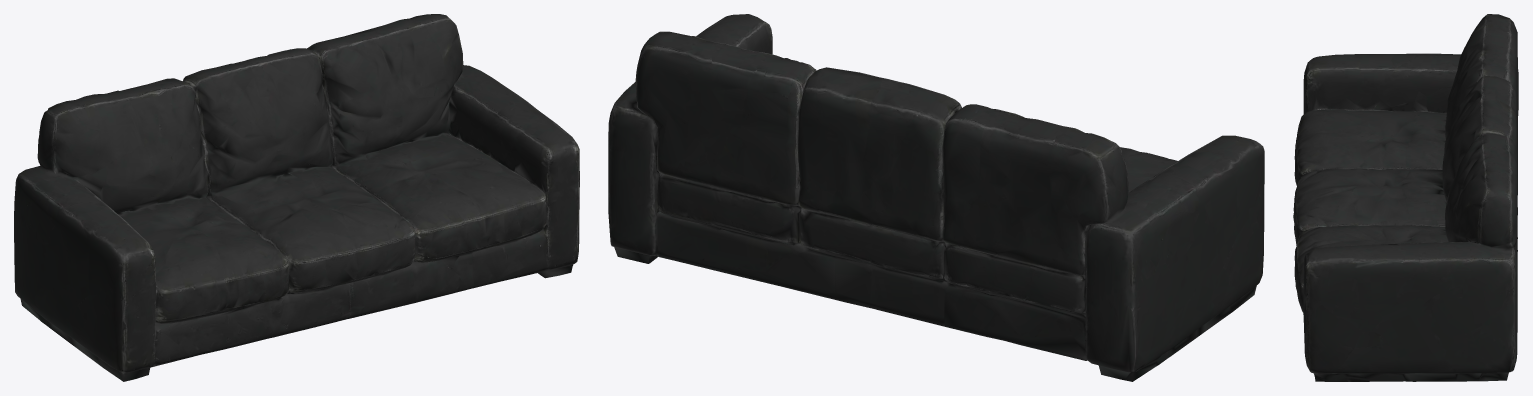
Rendered from mobile.glb.
3 views of the same model, side by side, from view 1: azimuth 30°, elevation 25°; view 2: azimuth 150°, elevation 25°; view 3: azimuth 270°, elevation 25° (orthographic). The views are drawn at different scales.
Visible parts, largest first — view 1: d-couch; view 2: d-couch; view 3: d-couch.
Boxes of the visible parts, box(x1,y1,x2,y2) form: d-couch: box(14, 14, 579, 381); d-couch: box(608, 14, 1264, 381); d-couch: box(1293, 14, 1518, 381).
Bounding box in the file's own units: 2 × 0.8064 × 0.9031.
Materials: 1 (1 with a texture image).
